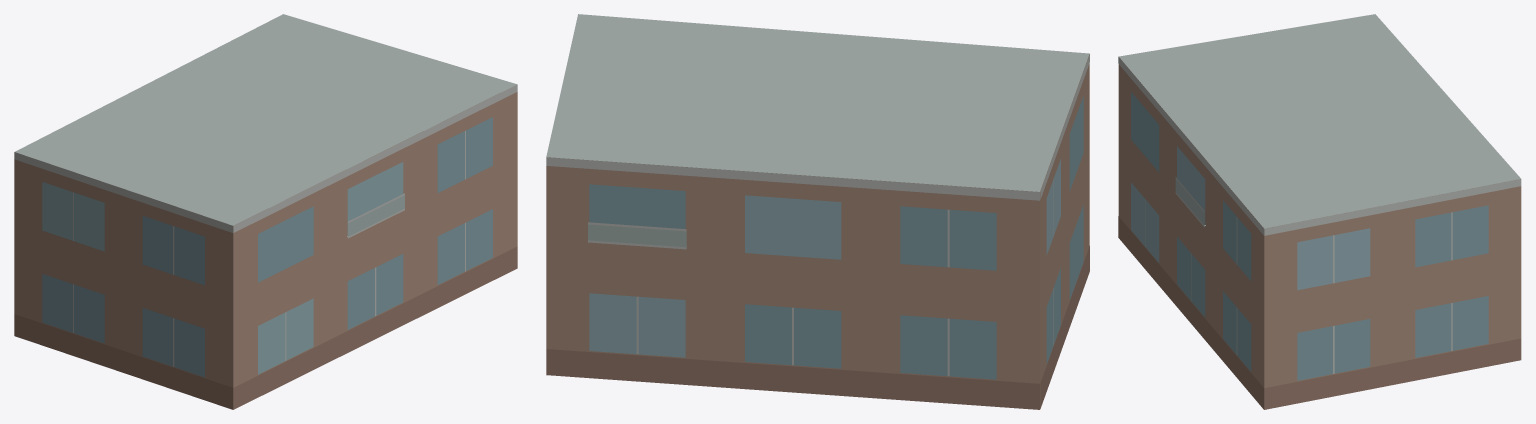
File: survey-upis-32836705.glb
The picture shows the model from 3 angles, left to right: view 1: azimuth 30°, elevation 25°; view 2: azimuth 150°, elevation 25°; view 3: azimuth 270°, elevation 25°; orthographic projection. The views are drawn at different scales.
Parts seen in each view (by area): view 1: survey-upis-32836705.tmp; view 2: survey-upis-32836705.tmp; view 3: survey-upis-32836705.tmp.
Boxes of the visible parts, box(x1,y1,x2,y2) form: survey-upis-32836705.tmp: box(14, 14, 517, 409); survey-upis-32836705.tmp: box(546, 14, 1089, 409); survey-upis-32836705.tmp: box(1118, 14, 1521, 409).
Bounding box in the file's own units: 15.5 × 6.1 × 12.3.
